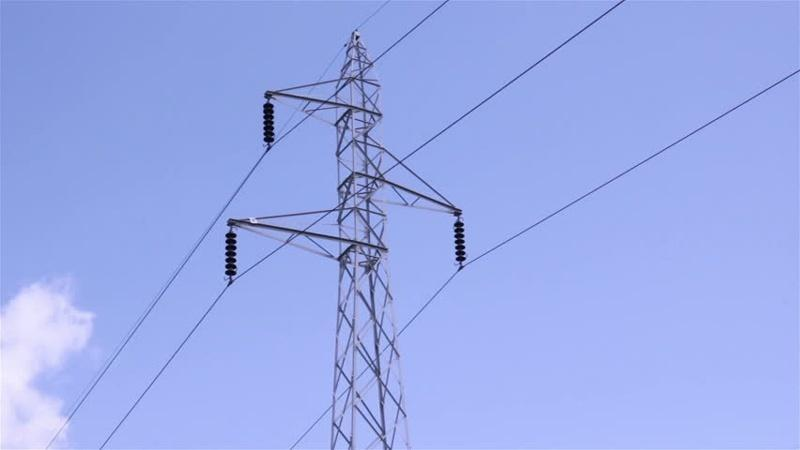power_tower: (222, 26, 472, 450)
